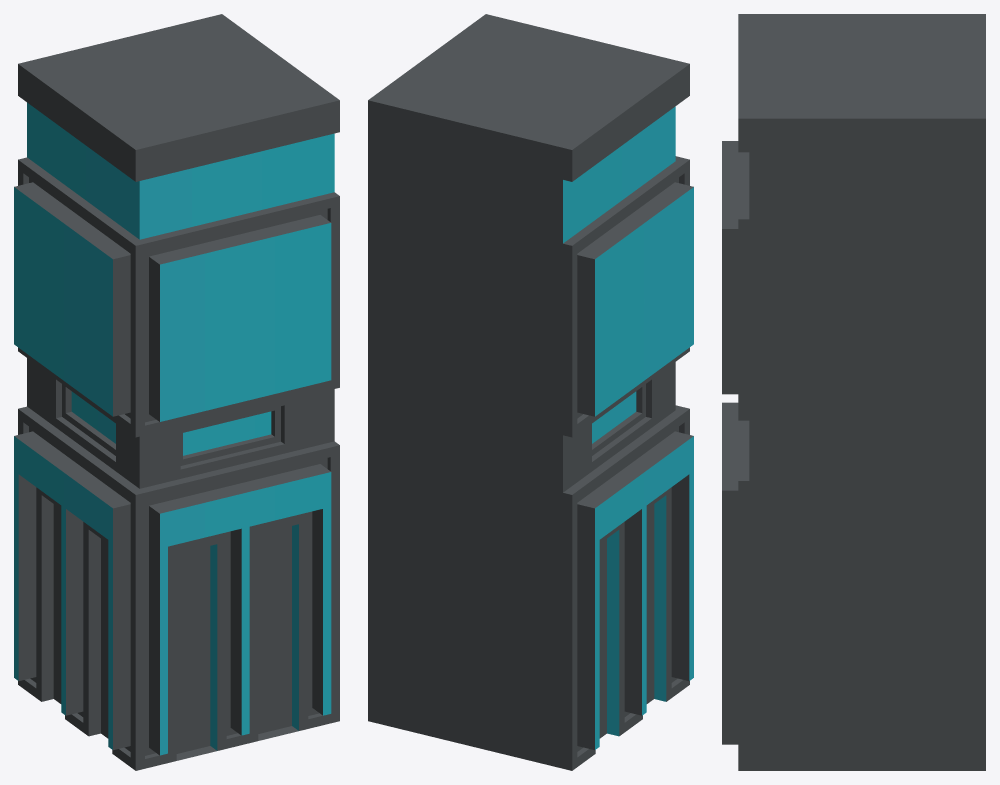
The model's file is EspacioContenidoEsquinaAperturaExteriorG.gltf.
3 renders of one model, left to right at view 1: azimuth 30°, elevation 25°; view 2: azimuth 150°, elevation 25°; view 3: azimuth 270°, elevation 25°, orthographic. The views are drawn at different scales.
Visible parts, largest first — view 1: Plano.1; view 2: Plano.1; view 3: Plano.1.
Boxes of the visible parts, x1=… form: Plano.1: x1=14, y1=14, x2=339, y2=770; Plano.1: x1=368, y1=14, x2=693, y2=770; Plano.1: x1=722, y1=14, x2=985, y2=770.
Size of the model in its own units: 0.7331 by 2 by 0.7331.
Materials: 1 (1 with a texture image).
